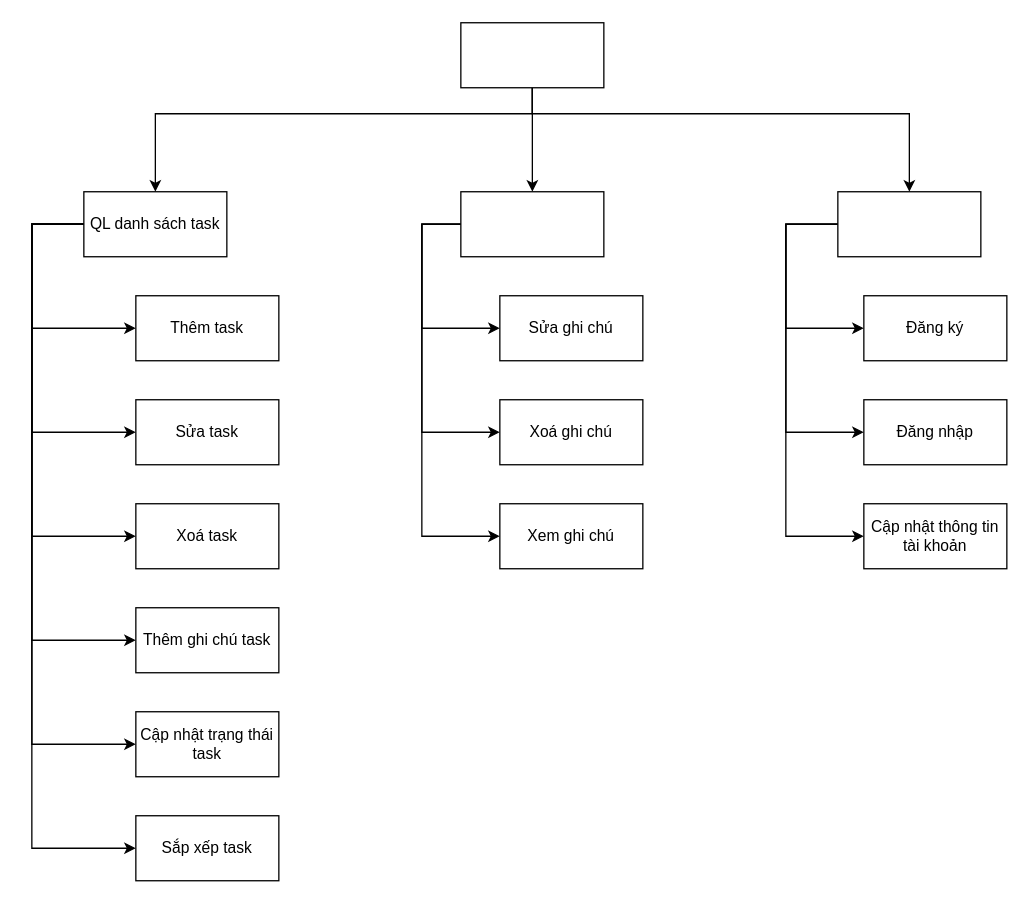
Some shapes in this 1030 by 903 pixel diagram are drawn without their labels. The centre of each missing label's shape, as x and y in pixels:
"Ghi chú task" belongs at pixel 532 223.
"Task manager" belongs at pixel 532 54.
"Tài khoản" belongs at pixel 909 223.
